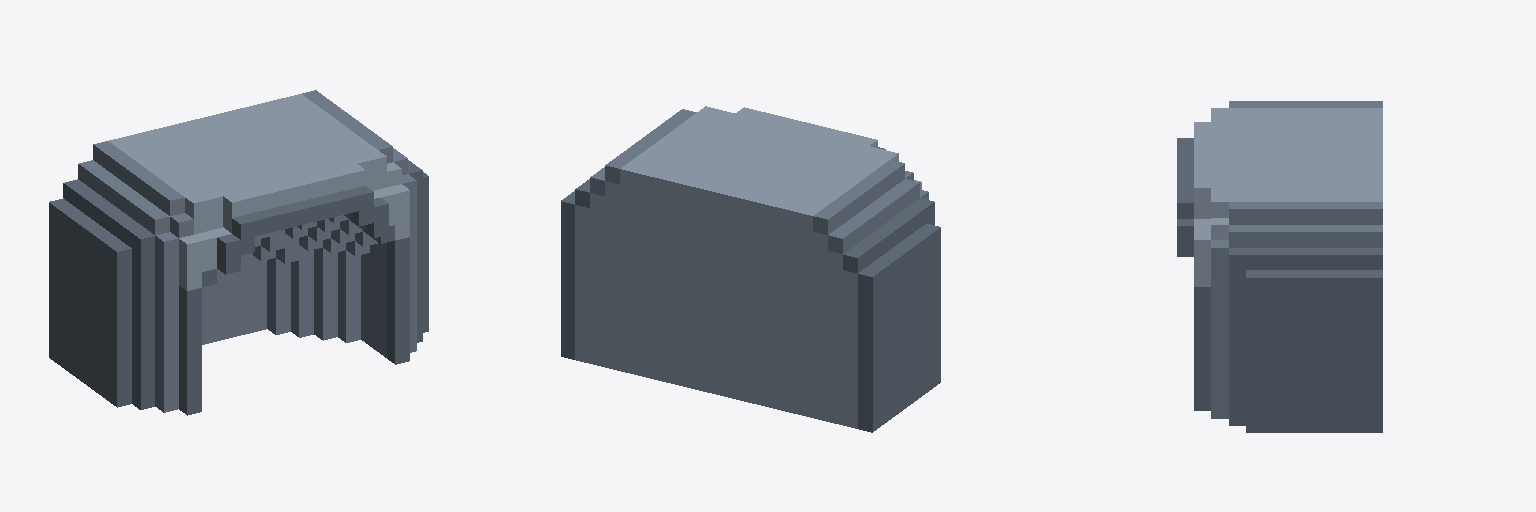
3 views of the same model, side by side, from view 1: azimuth 30°, elevation 25°; view 2: azimuth 150°, elevation 25°; view 3: azimuth 270°, elevation 25° (orthographic).
Visible parts, largest first — view 1: object 1; view 2: object 1; view 3: object 1.
Part boxes in pixels (x1,y1,x2,y2): object 1: (49, 90, 428, 415); object 1: (561, 106, 940, 432); object 1: (1177, 101, 1382, 432).
Bounding box in the file's own units: 2.1 × 1.3 × 1.2.
1 materials, 1 textured.